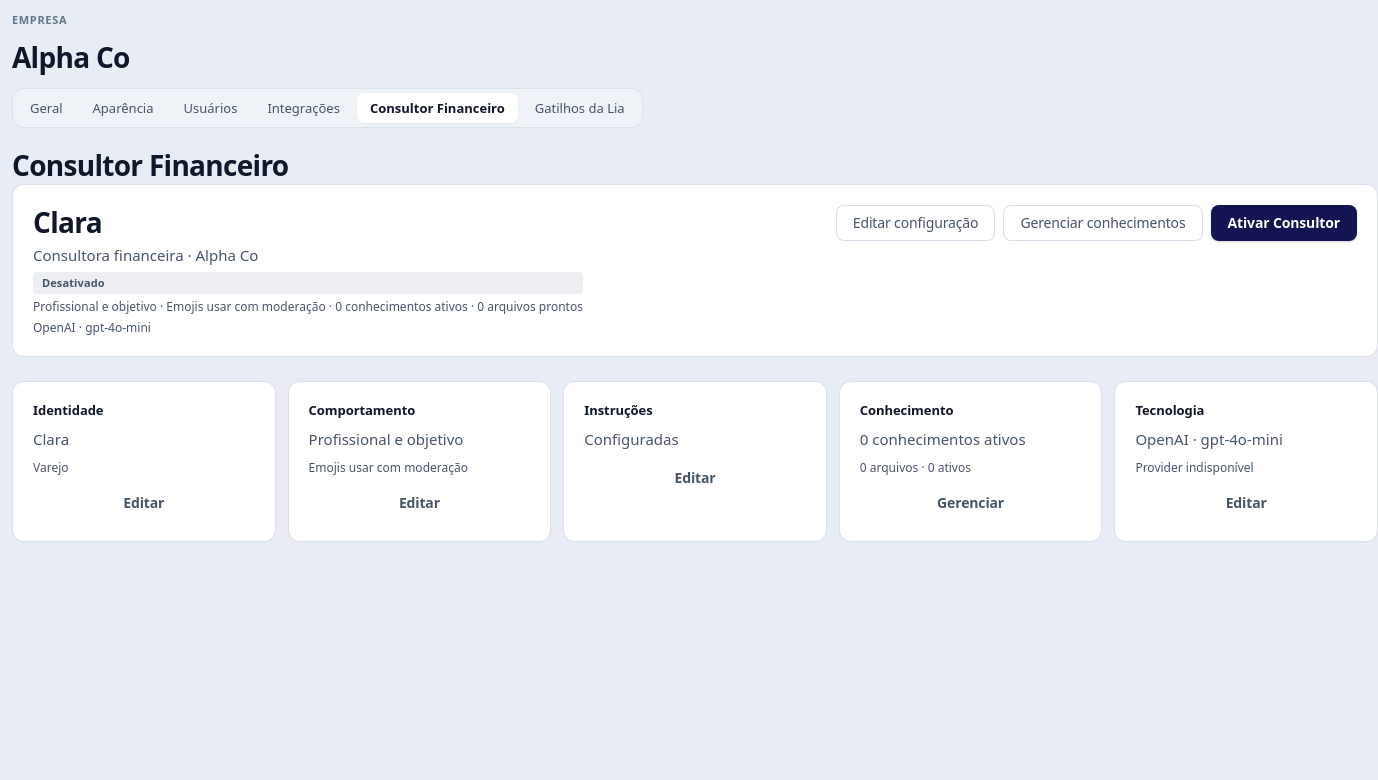
UI admin Consultor (F13.8.1) › impede ativar sem credencial do provider
The width and height of the screenshot is (1378, 780).
Step 1. Click the button "Ativar Consultor" → click(1284, 223), box [1210,205,1357,241]
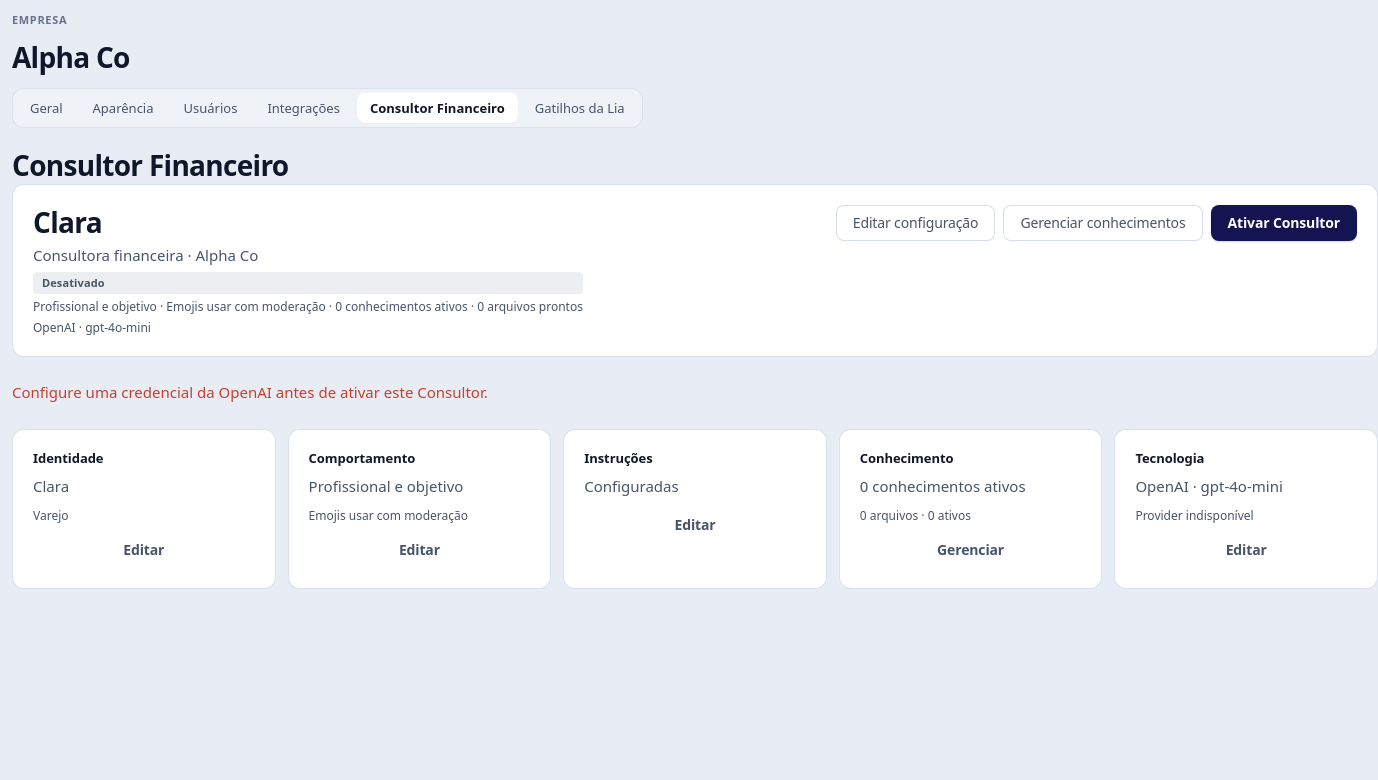
Expected: the text "Configure uma credencial da OpenAI antes de ativar este Consultor." is shown, [12,382,488,402]
